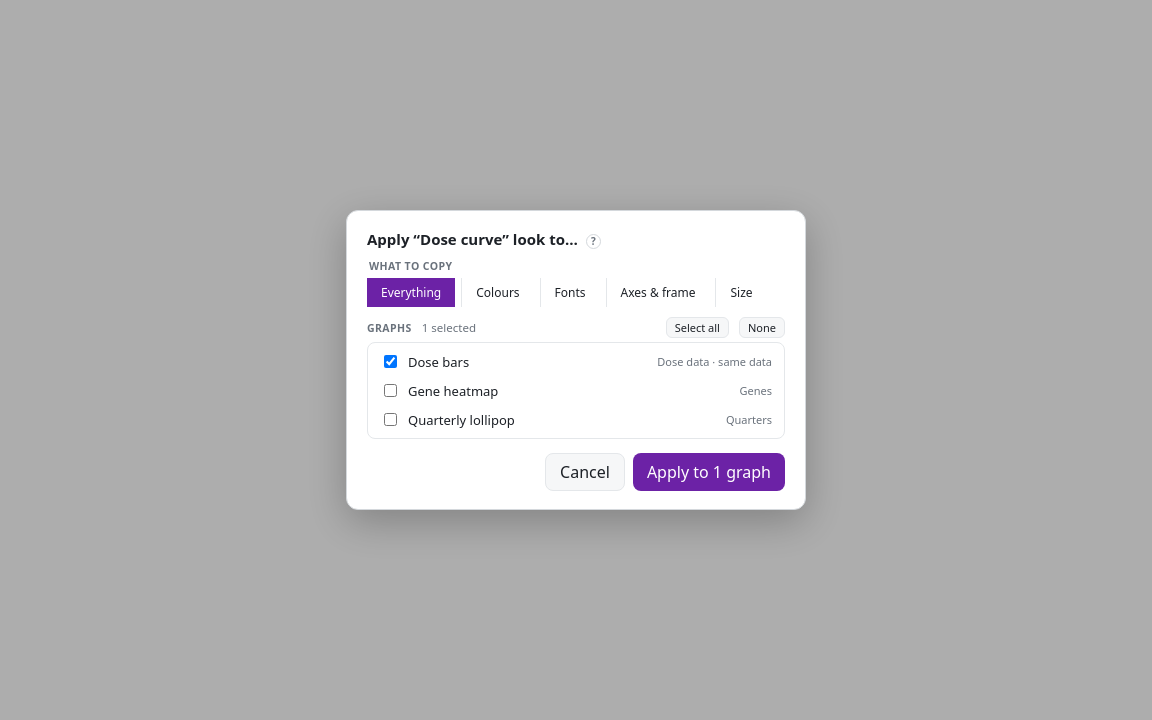
Test: ApplyLookDialog › Select all / None drive the whole target set + gate the Apply button
Step 1. Click the button with class "btn-mini" showing "None" → (762, 328), box [739,317,785,338]
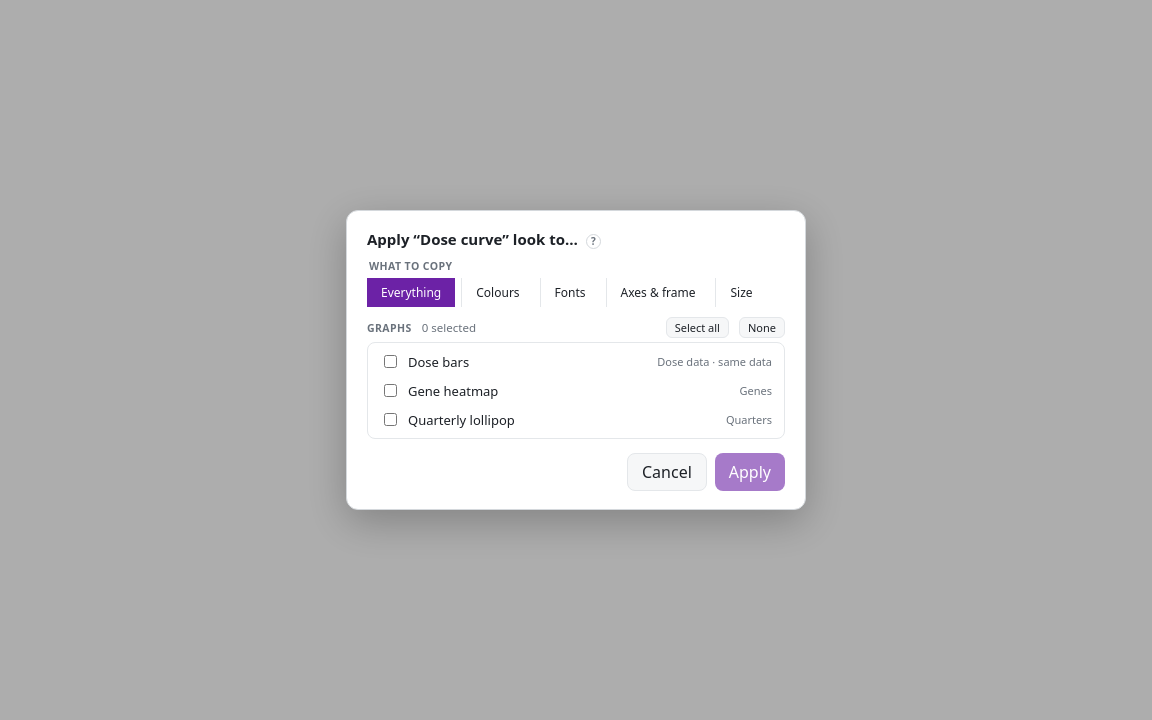
Result: the button "Apply" is disabled at [715,453,785,491]
Result: the button "Apply" is shown at [715,453,785,491]
Step 2. Click the button with class "btn-mini" showing "Select all" → (697, 328), box [666,317,729,338]
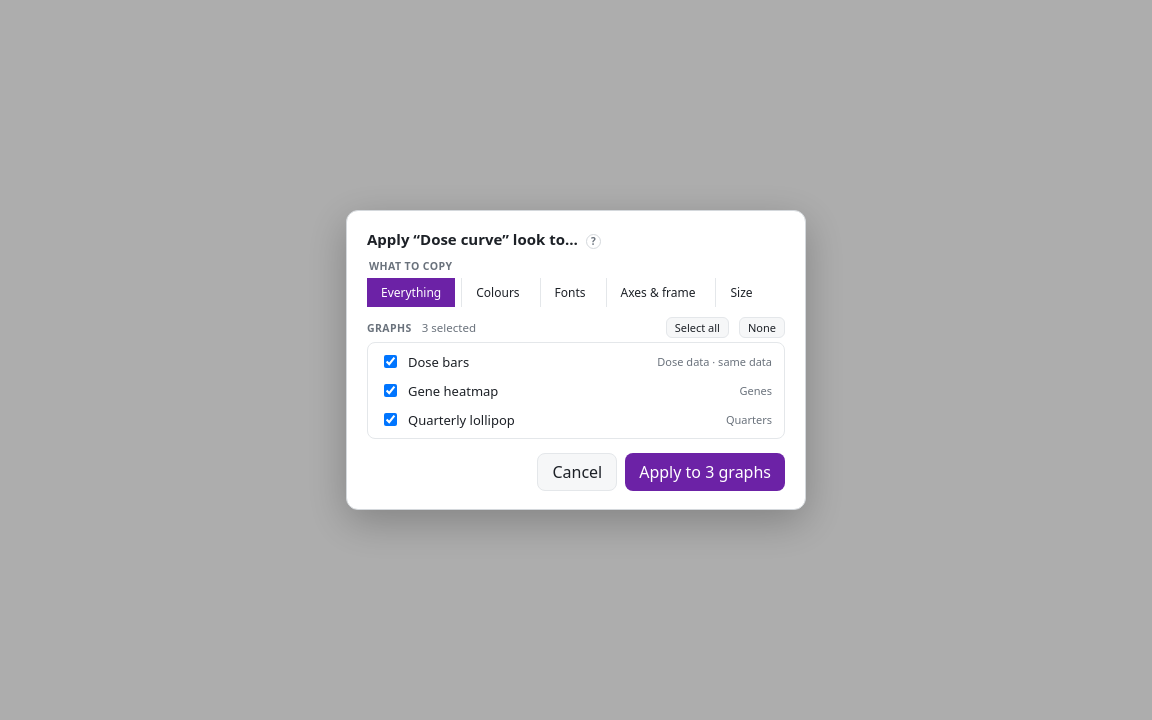
Result: the button "Apply to 3 graphs" is enabled at [625,453,785,491]
Result: the button "Apply to 3 graphs" is shown at [625,453,785,491]
